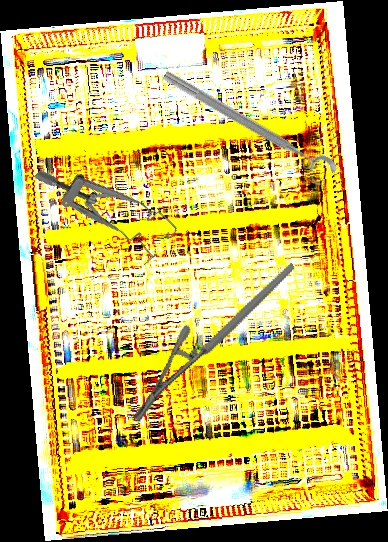Fixation Ring: (154, 66, 340, 191)
Needle Holder: (102, 262, 327, 425)
Speculum: (33, 132, 180, 276)
